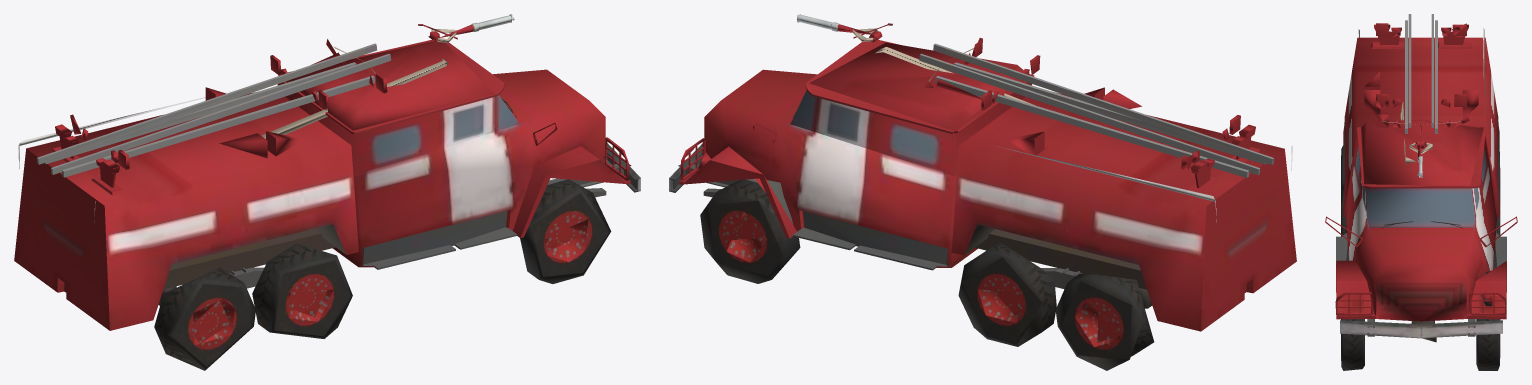
File: fire-truck.lod0.glb
3 renders of one model, left to right at view 1: azimuth 30°, elevation 25°; view 2: azimuth 150°, elevation 25°; view 3: azimuth 270°, elevation 25°, orthographic. The views are drawn at different scales.
Visible parts, largest first — view 1: Object_3, Object_4; view 2: Object_3, Object_4; view 3: Object_3, Object_4.
Part boxes in pixels (<box>): Object_3: <box>14,14,640,330</box>; Object_4: <box>154,179,611,370</box>; Object_3: <box>669,14,1296,331</box>; Object_4: <box>700,179,1154,370</box>; Object_3: <box>1325,14,1517,342</box>; Object_4: <box>1341,145,1500,370</box>.
Size of the model in its own units: 7.11 by 3.02 by 2.6.
2 materials, 2 textured.
